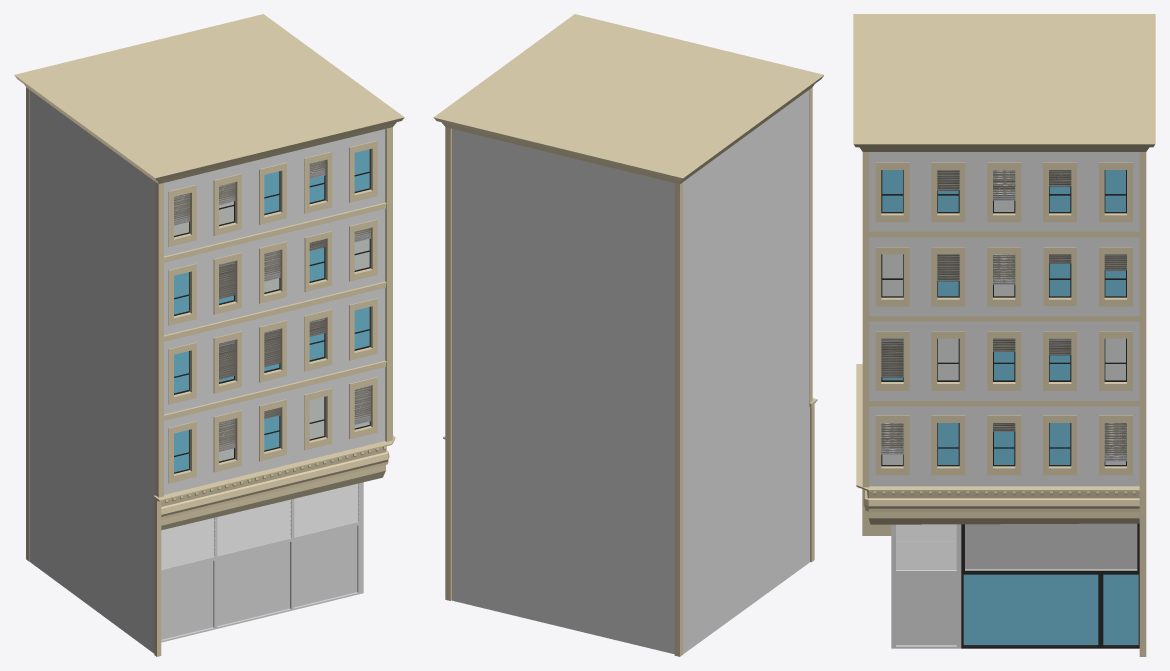
Rendered from Bloc_08A.fbx.
3 views of the same model, side by side, from view 1: azimuth 30°, elevation 25°; view 2: azimuth 150°, elevation 25°; view 3: azimuth 270°, elevation 25° (orthographic). The views are drawn at different scales.
Parts seen in each view (by area): view 1: Bloc_08A; view 2: Bloc_08A; view 3: Bloc_08A.
Part boxes in pixels (x1,y1,x2,y2): Bloc_08A: (14,14,404,656); Bloc_08A: (433,14,823,656); Bloc_08A: (853,14,1155,656).
Bounding box in the file's own units: 974 × 1841 × 993.
